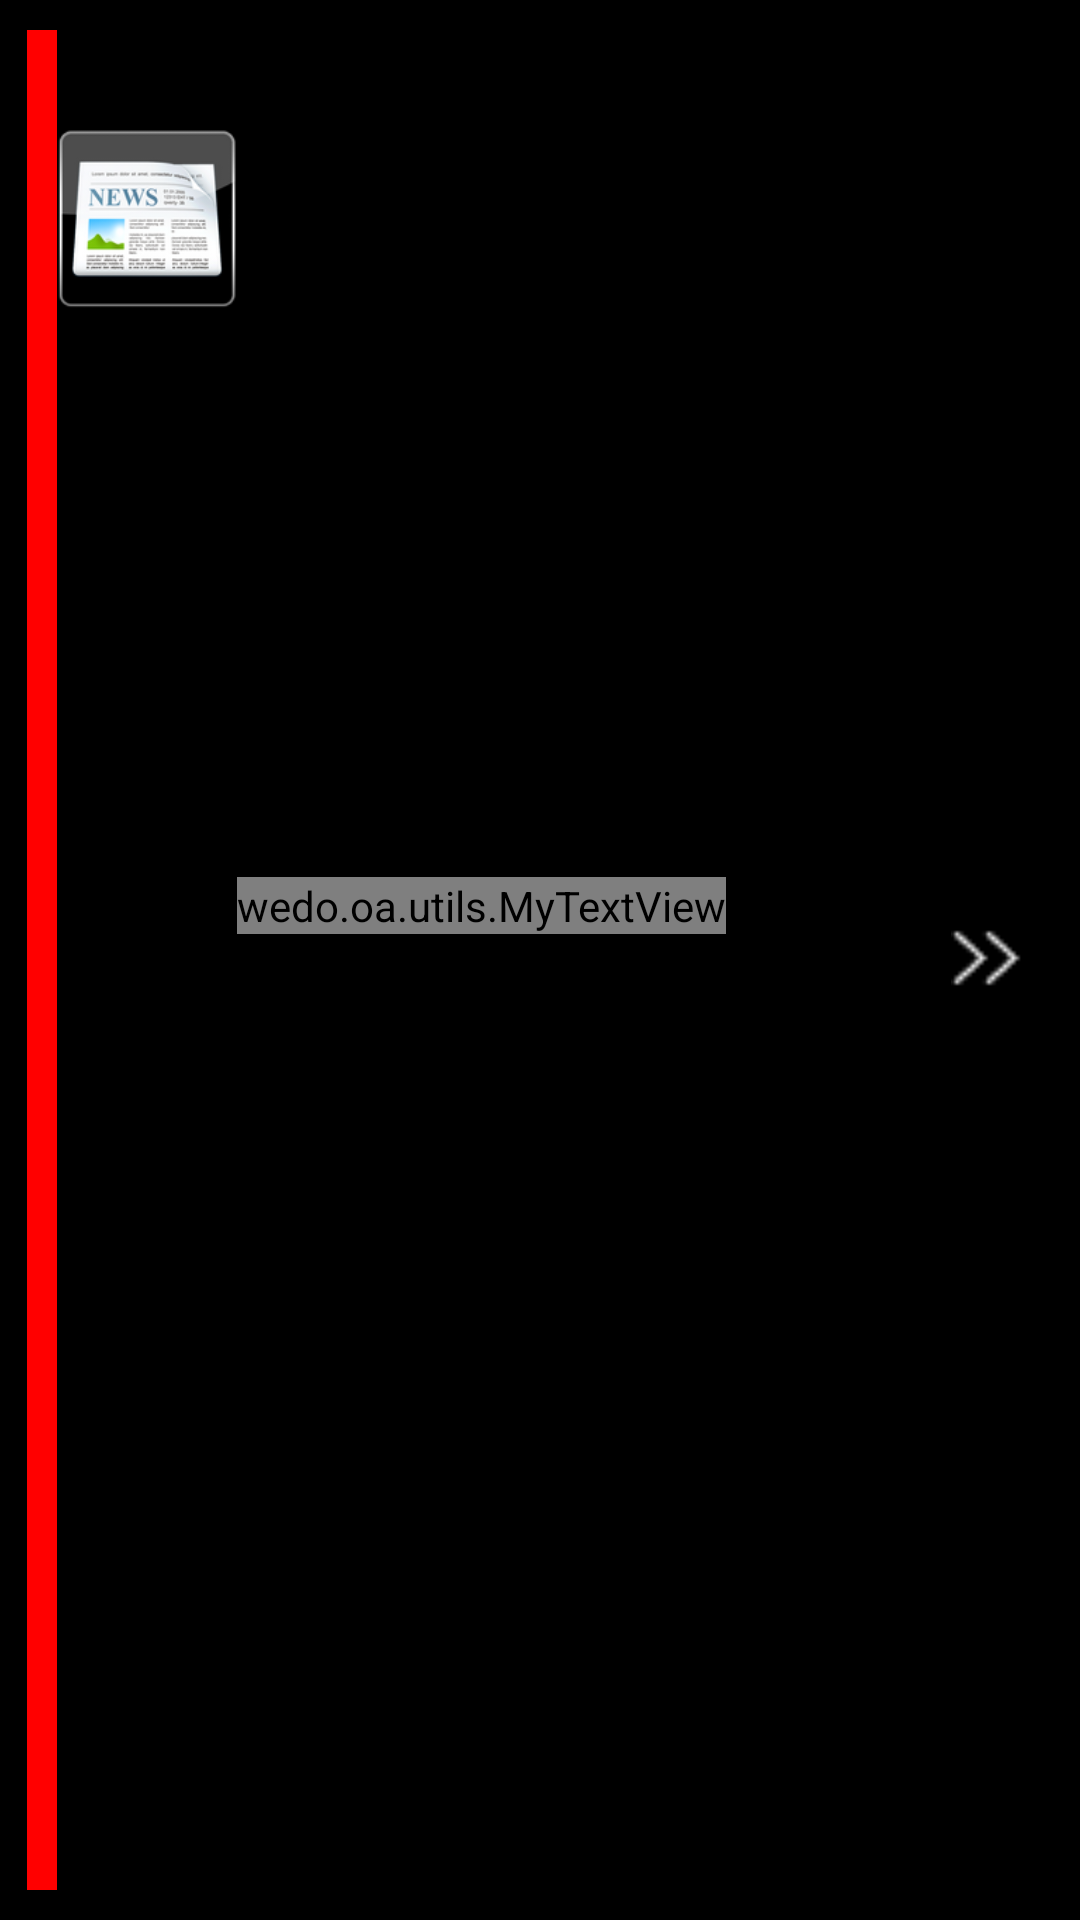

Named icons in this screenshot (1080x1920) and their bounding boxes, (x1, y1, x2, y2):
right: (953, 930, 1020, 986)
